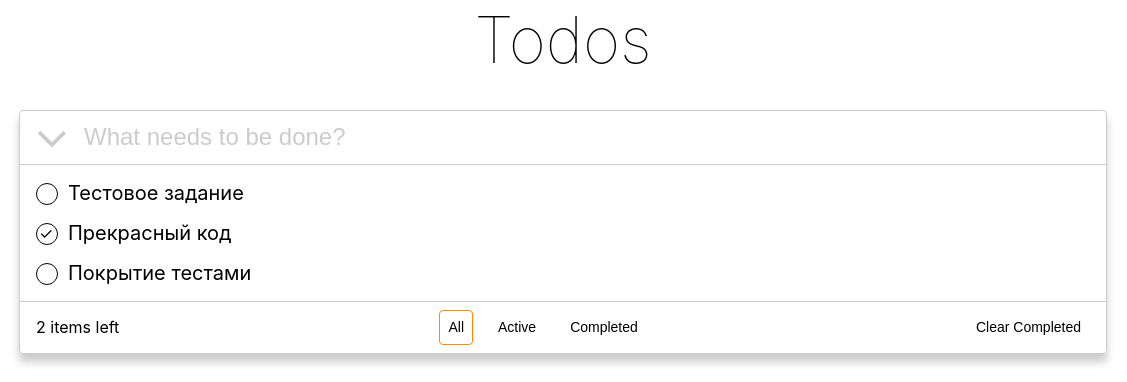
Test: TodoList Component › Displays the correct count of items left
The width and height of the screenshot is (1127, 382).
Click the list item "Тестовое задание".
click(156, 193)  # box [68,181,244,205]
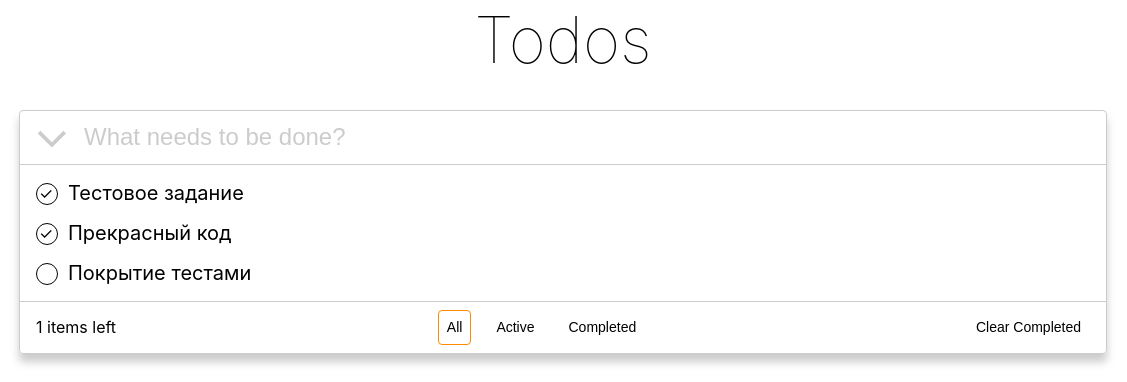
Expected: the text "2 items left" reads "1 items left", [36,317,116,337]
Click the list item "Покрытие тестами".
click(160, 273)  # box [68,261,251,285]
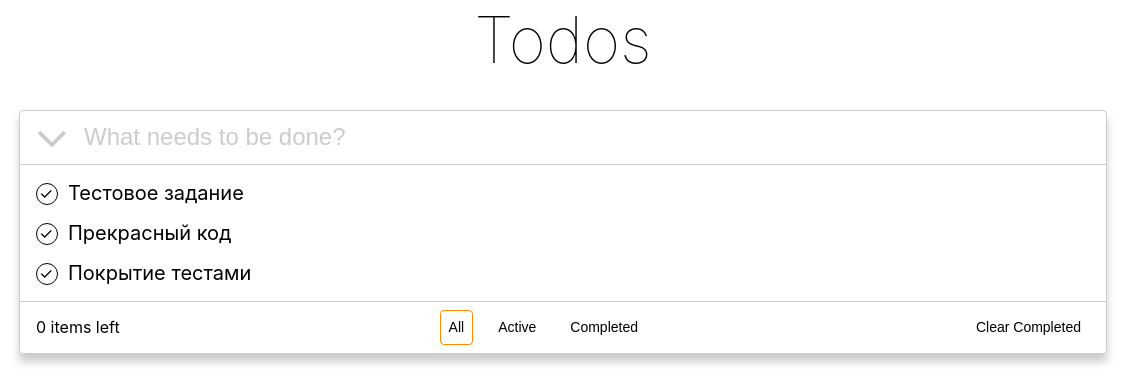
Expected: the text "2 items left" reads "0 items left", [36,317,120,337]
Click the list item "Покрытие тестами".
click(160, 273)  # box [68,261,251,285]
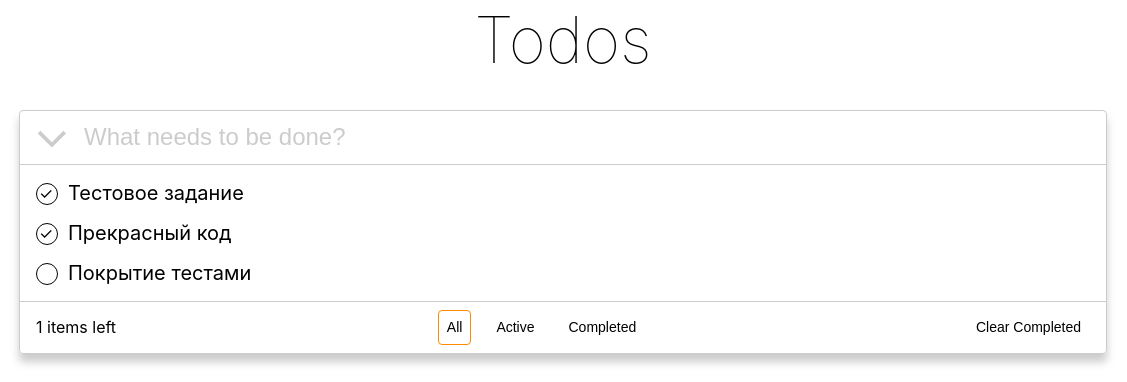
Expected: the text "2 items left" reads "1 items left", [36,317,116,337]
